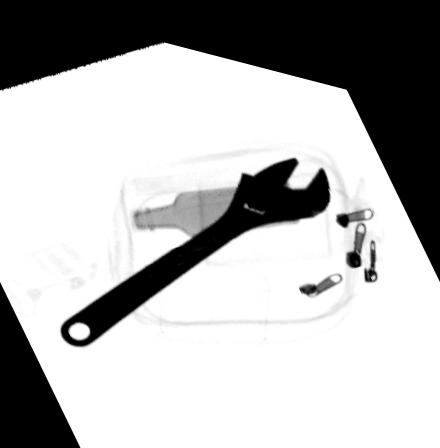Wrench: (57, 141, 333, 344)
